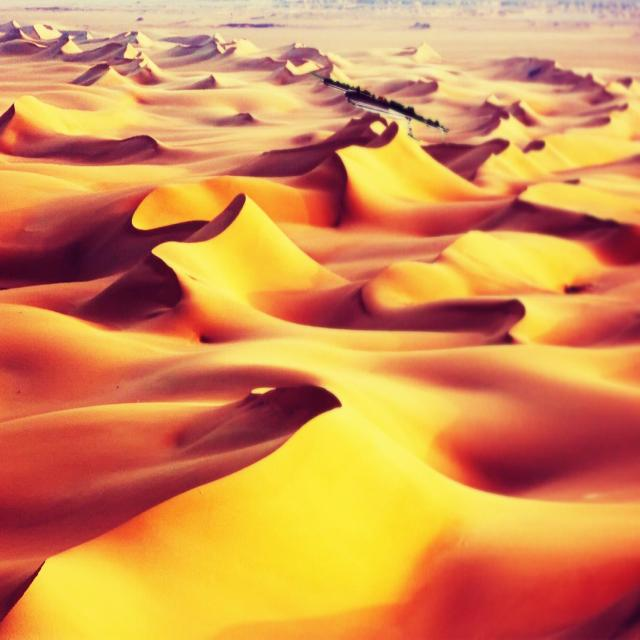airplane: (309, 66, 449, 139)
